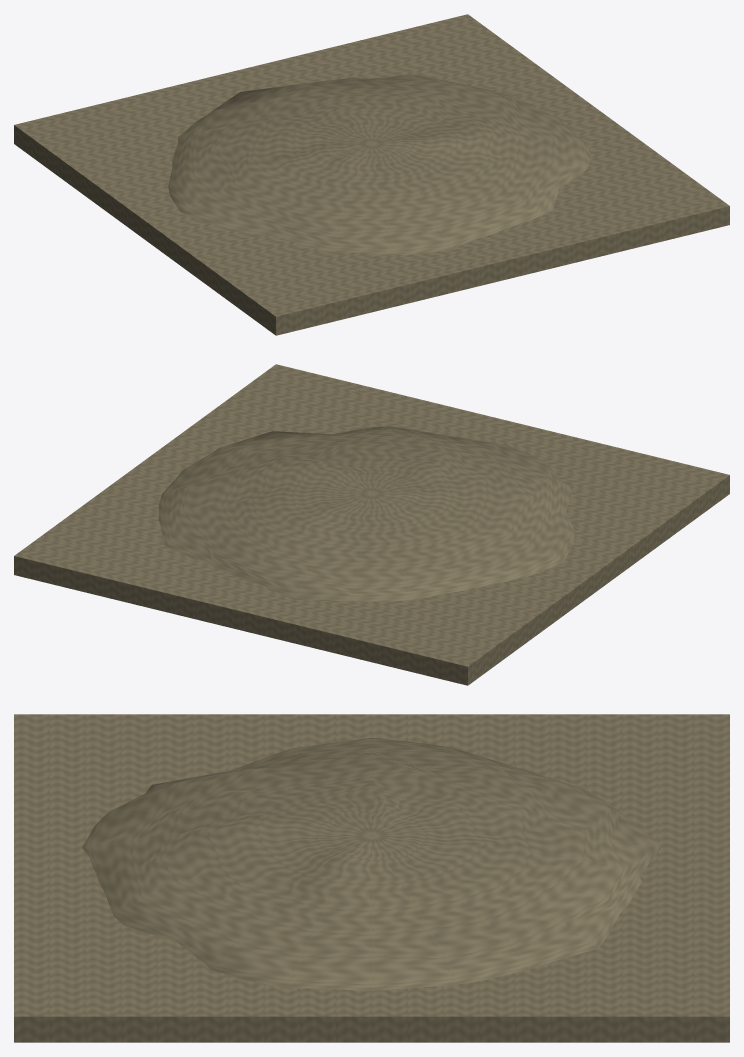
File: mud_bank_tile_swamp_and_mangrove_22637.glb
3 renders of one model, top to bottom at view 1: azimuth 30°, elevation 25°; view 2: azimuth 150°, elevation 25°; view 3: azimuth 270°, elevation 25°, orthographic. The views are drawn at different scales.
Parts seen in each view (by area): view 1: mud-bank-tile; view 2: mud-bank-tile; view 3: mud-bank-tile.
Part boxes in pixels (x1=…): mud-bank-tile: x1=14, y1=14, x2=729, y2=335; mud-bank-tile: x1=14, y1=364, x2=729, y2=685; mud-bank-tile: x1=14, y1=714, x2=729, y2=1042.
Bounding box in the file's own units: 4 × 0.3613 × 4.
Materials: 1 (1 with a texture image).
